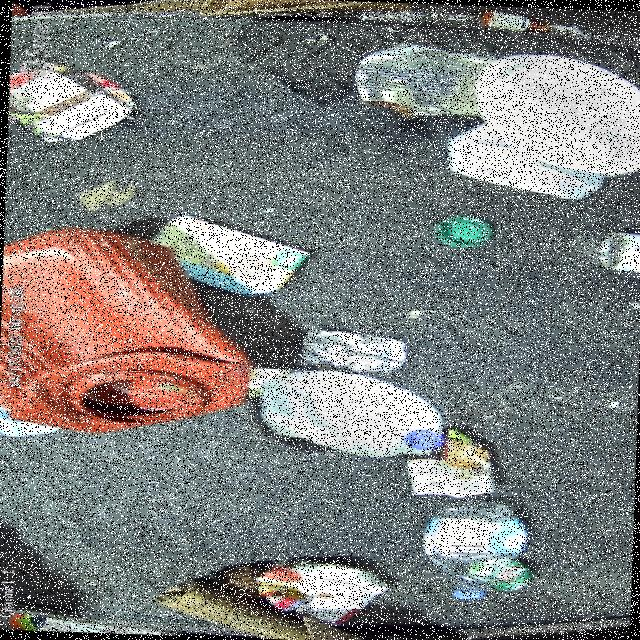milk-jug: (245, 367, 450, 460)
